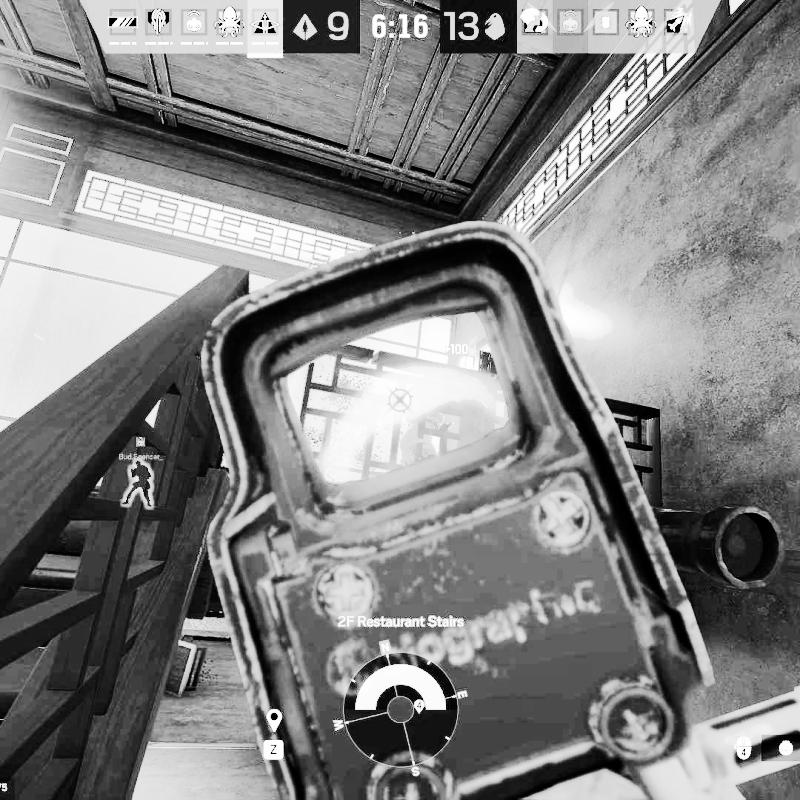Character: (398, 356, 469, 465)
Friend_label: (118, 436, 164, 462)
